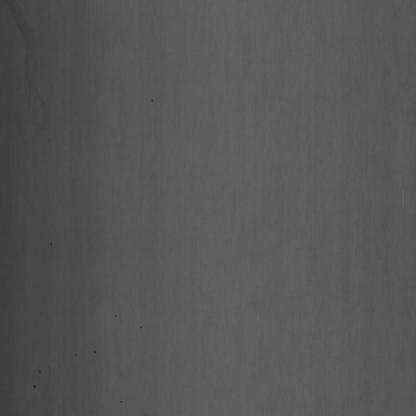inclusion: (32, 363, 45, 396)
water_spot: (5, 23, 51, 132)
